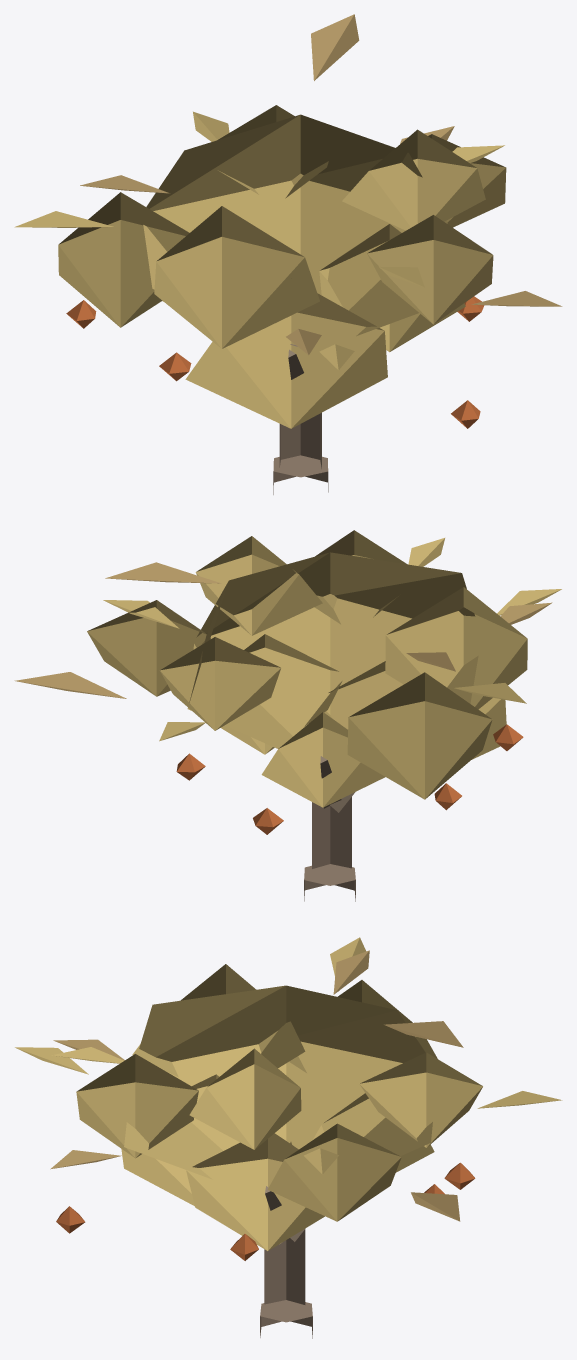
The model's file is shu.ganju__autumn.glb.
3 views of the same model, one above another, from view 1: azimuth 30°, elevation 25°; view 2: azimuth 150°, elevation 25°; view 3: azimuth 270°, elevation 25° (orthographic). The views are drawn at different scales.
Parts seen in each view (by area): view 1: shu.ganju__autumn; view 2: shu.ganju__autumn; view 3: shu.ganju__autumn.
Part boxes in pixels (x1,y1,x2,y2): shu.ganju__autumn: (14,14,562,494); shu.ganju__autumn: (14,530,561,901); shu.ganju__autumn: (15,937,562,1338).
Size of the model in its own units: 7.1 by 5.12 by 7.18.
